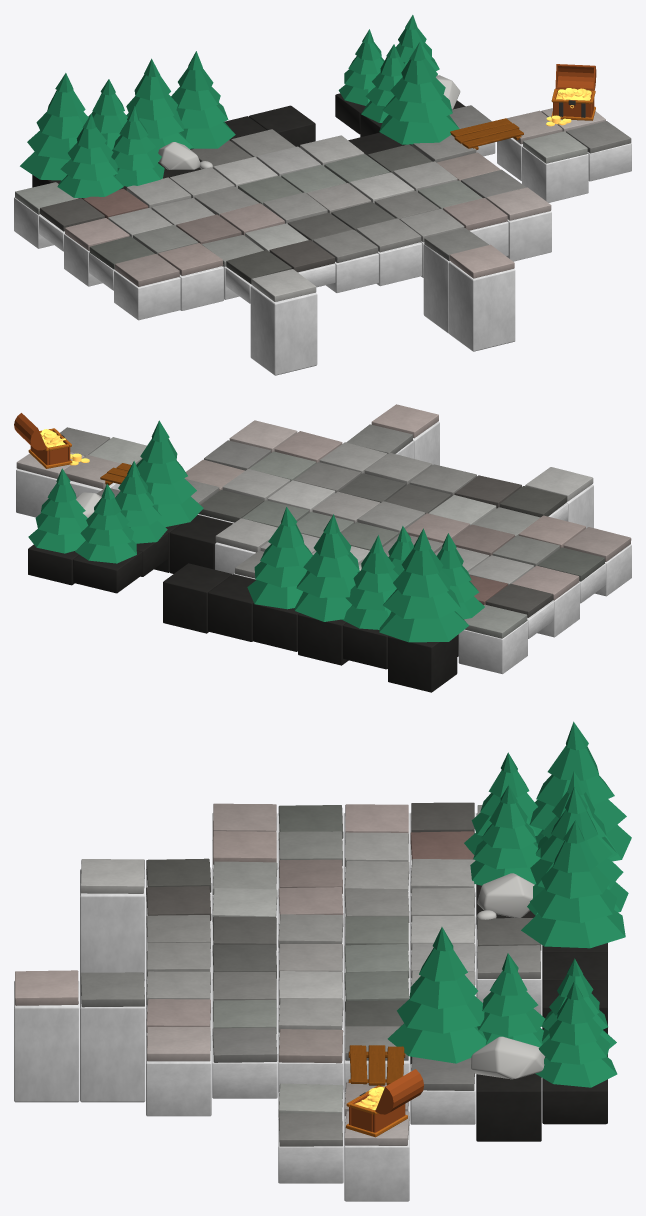
The model's file is island-source.glb.
The picture shows the model from 3 angles, top to bottom: view 1: azimuth 30°, elevation 25°; view 2: azimuth 150°, elevation 25°; view 3: azimuth 270°, elevation 25°; orthographic projection. The views are drawn at different scales.
Parts seen in each view (by area): view 1: island, tree (×10), chest, rock; view 2: island, tree (×10), chest; view 3: island, tree (×10), rock (×2), chest.
Part boxes in pixels (bbox=[...]): island: bbox=[14, 93, 631, 375]; tree (×10): bbox=[20, 15, 459, 197]; chest: bbox=[546, 64, 596, 126]; rock: bbox=[158, 142, 212, 169]; island: bbox=[16, 404, 631, 692]; tree (×10): bbox=[28, 420, 484, 642]; chest: bbox=[14, 413, 89, 468]; island: bbox=[14, 802, 607, 1201]; tree (×10): bbox=[387, 721, 631, 1087]; rock (×2): bbox=[471, 873, 545, 1079]; chest: bbox=[346, 1069, 423, 1137].
Size of the model in its own units: 12.16 by 3.81 by 9.35.
127 materials, 120 textured.
